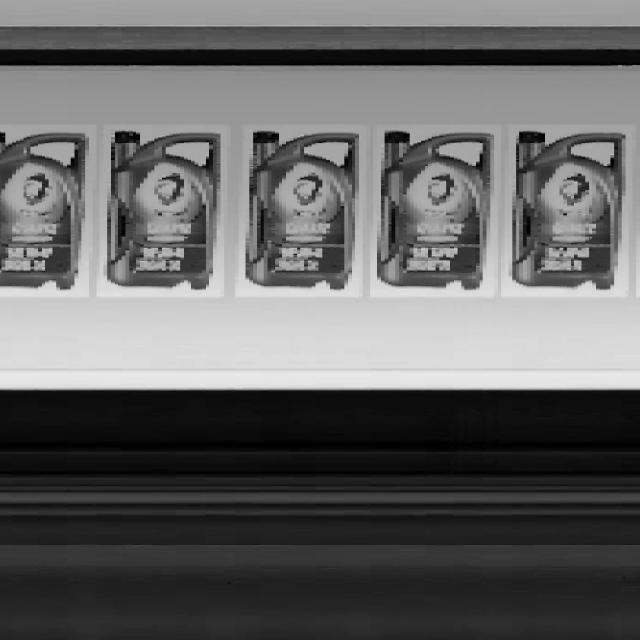motor_oil: (242, 124, 364, 296), (100, 124, 226, 290), (510, 129, 633, 292), (376, 129, 496, 294), (0, 127, 90, 291)
